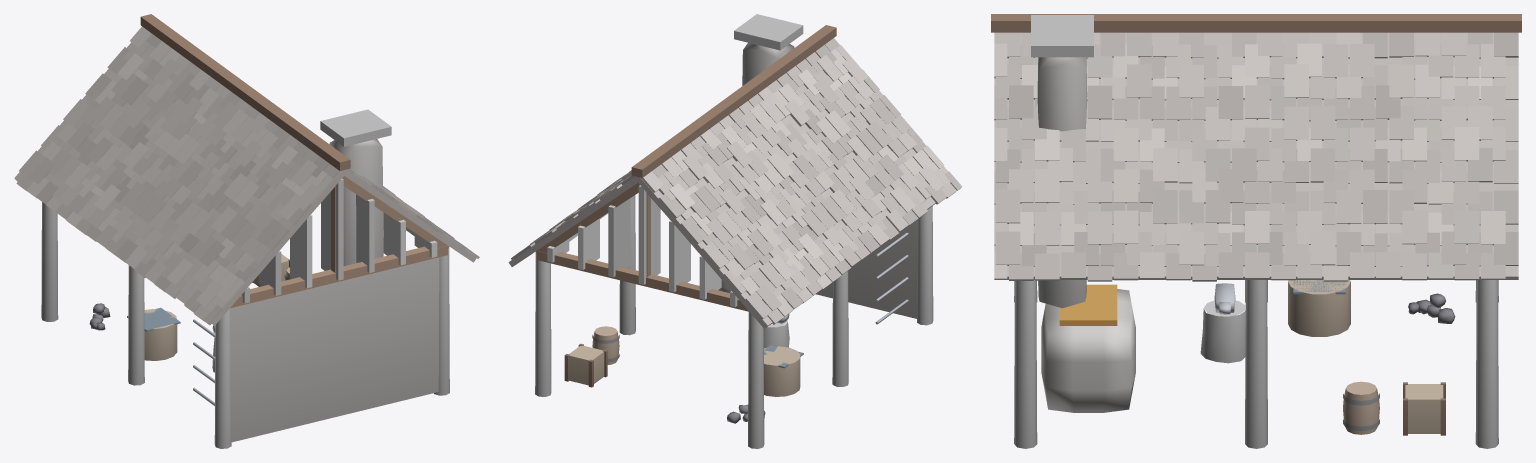
Rendered from hw_medieval_smithy.glb.
The picture shows the model from 3 angles, left to right: view 1: azimuth 30°, elevation 25°; view 2: azimuth 150°, elevation 25°; view 3: azimuth 270°, elevation 25°; orthographic projection. The views are drawn at different scales.
Visible parts, largest first — view 1: Building; view 2: Building; view 3: Building.
Part boxes in pixels (left/top/right/bottom): Building: left=14, top=14, right=479, bottom=448; Building: left=508, top=14, right=962, bottom=448; Building: left=991, top=14, right=1521, bottom=448.
Bounding box in the file's own units: 3.98 × 3.86 × 5.06.
